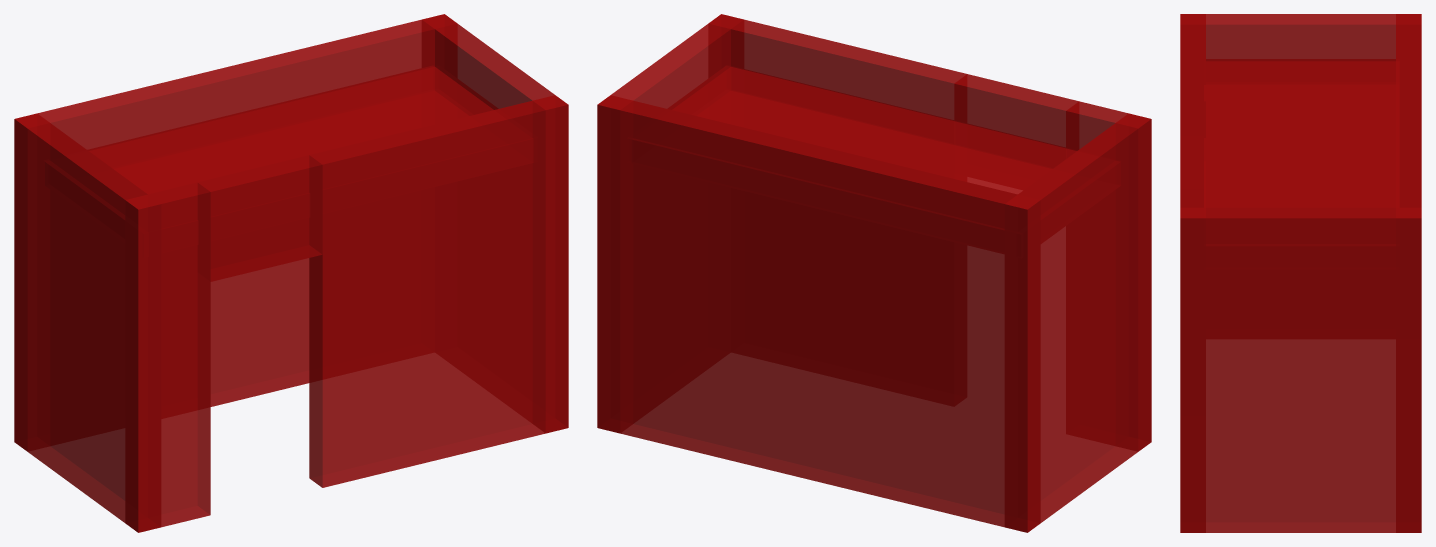
Rendered from SM_Bld_Village_House_07_Collision.fbx.
The picture shows the model from 3 angles, left to right: view 1: azimuth 30°, elevation 25°; view 2: azimuth 150°, elevation 25°; view 3: azimuth 270°, elevation 25°; orthographic projection. The views are drawn at different scales.
Parts seen in each view (by area): view 1: SM_Bld_Village_House_07_Collision; view 2: SM_Bld_Village_House_07_Collision; view 3: SM_Bld_Village_House_07_Collision.
Part boxes in pixels (x1,y1,x2,y2): SM_Bld_Village_House_07_Collision: (14,14,568,532); SM_Bld_Village_House_07_Collision: (597,14,1151,532); SM_Bld_Village_House_07_Collision: (1180,14,1421,532).
Bounding box in the file's own units: 473 × 339 × 236.
